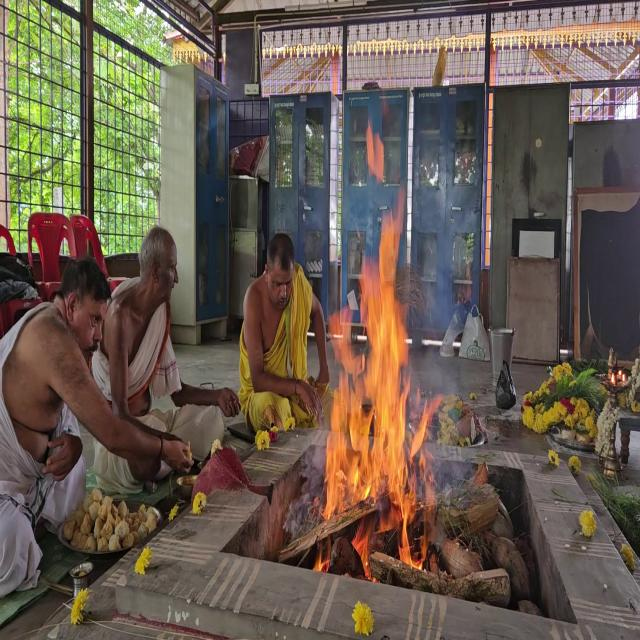fire: (315, 202, 434, 580)
